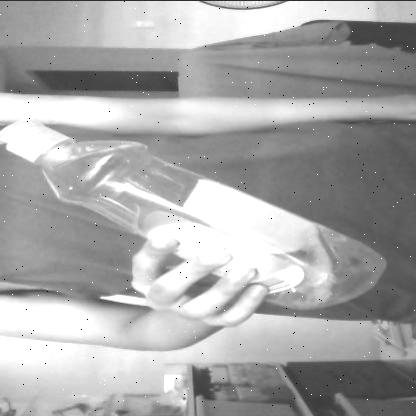Plastic Bottle: (7, 113, 389, 309)
